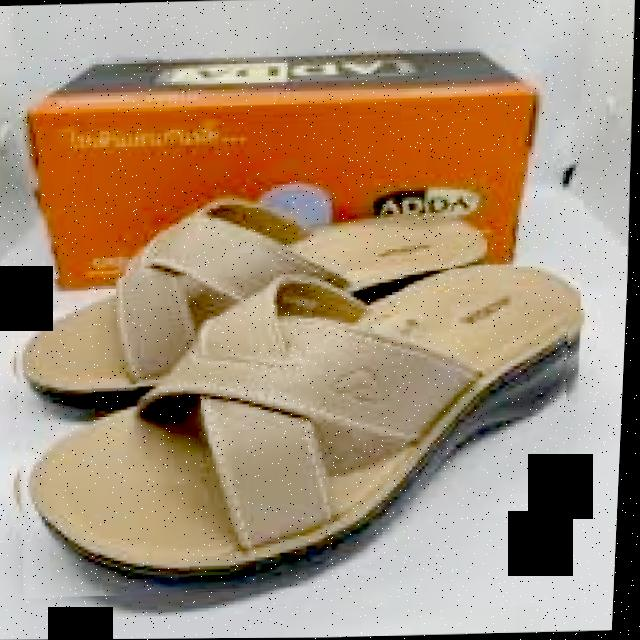shoe: (0, 200, 592, 599), (11, 266, 577, 596)
